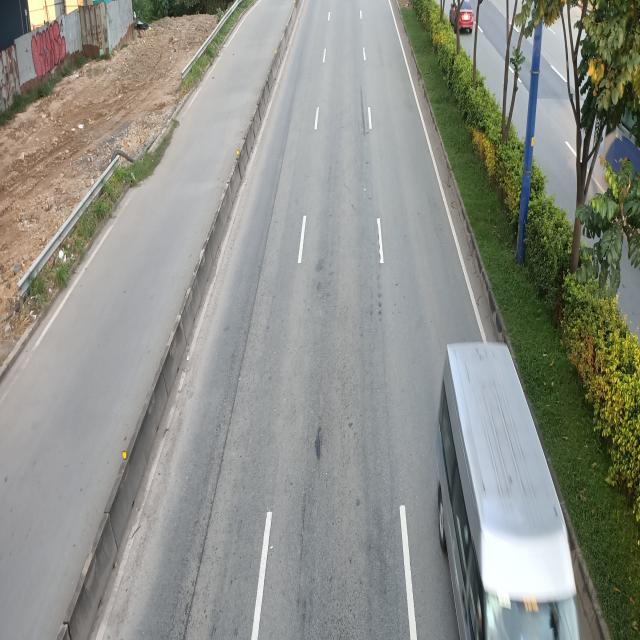van: (436, 342, 582, 640)
